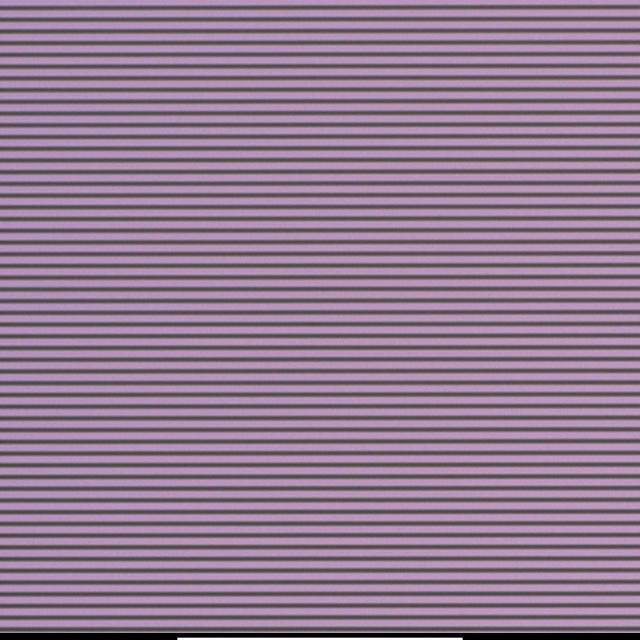03_intrusion: (304, 342, 314, 356)
